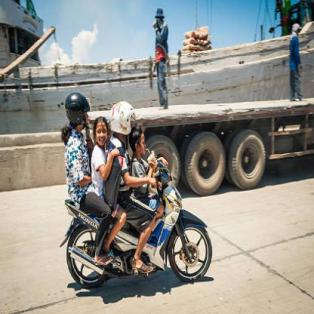Motocicleta: (58, 174, 214, 299)
